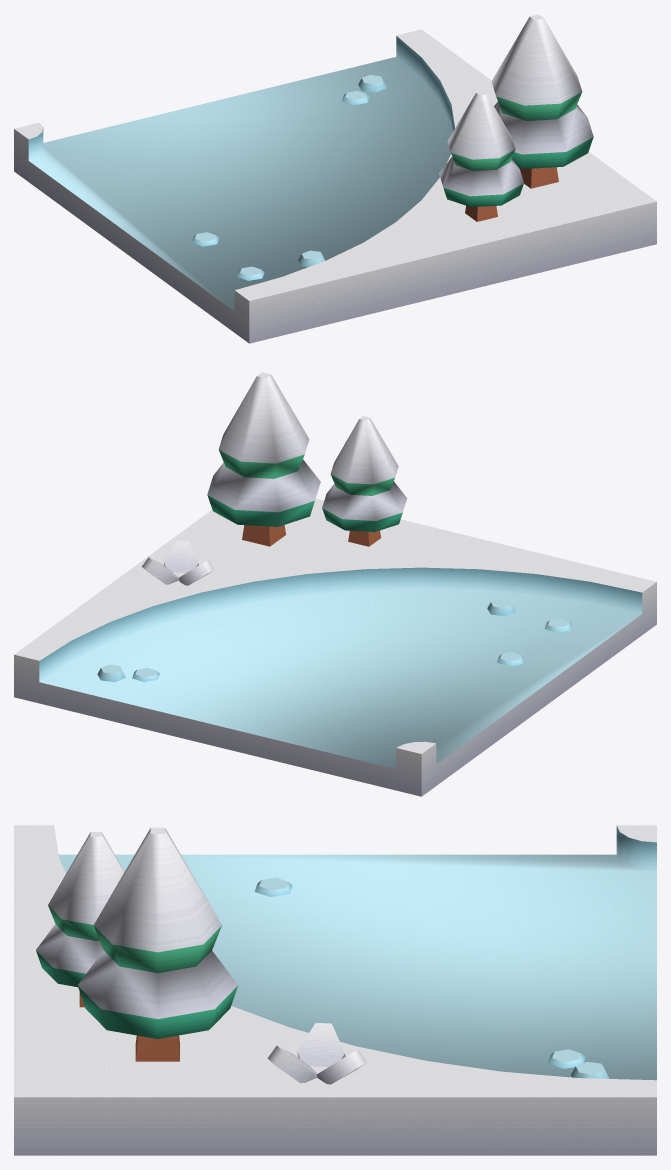
Rendered from snow-tile-wide-corner.glb.
The picture shows the model from 3 angles, top to bottom: view 1: azimuth 30°, elevation 25°; view 2: azimuth 150°, elevation 25°; view 3: azimuth 270°, elevation 25°; orthographic projection. The views are drawn at different scales.
Parts seen in each view (by area): view 1: snow-tile-wide-corner; view 2: snow-tile-wide-corner; view 3: snow-tile-wide-corner.
Boxes of the visible parts, x1=… form: snow-tile-wide-corner: x1=14, y1=14, x2=656, y2=343; snow-tile-wide-corner: x1=14, y1=372, x2=656, y2=796; snow-tile-wide-corner: x1=14, y1=825, x2=656, y2=1155.
Size of the model in its own units: 2 by 0.96 by 2.
Materials: 1 (1 with a texture image).
